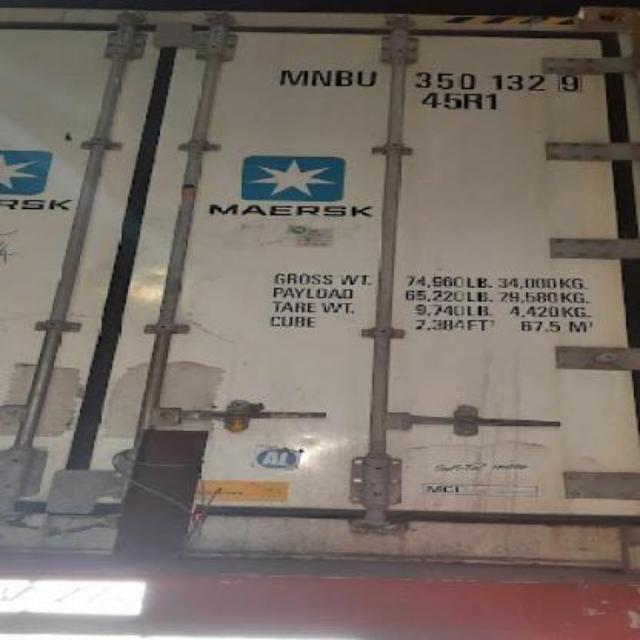0: (458, 70, 478, 90)
1: (484, 72, 508, 88)
2: (528, 73, 548, 91)
3: (504, 71, 524, 91), (412, 70, 430, 90)
5: (436, 69, 456, 89)
9: (558, 73, 586, 91)
B: (338, 69, 354, 87)
M: (282, 68, 308, 88)
N: (308, 69, 336, 87)
U: (356, 69, 380, 87)
